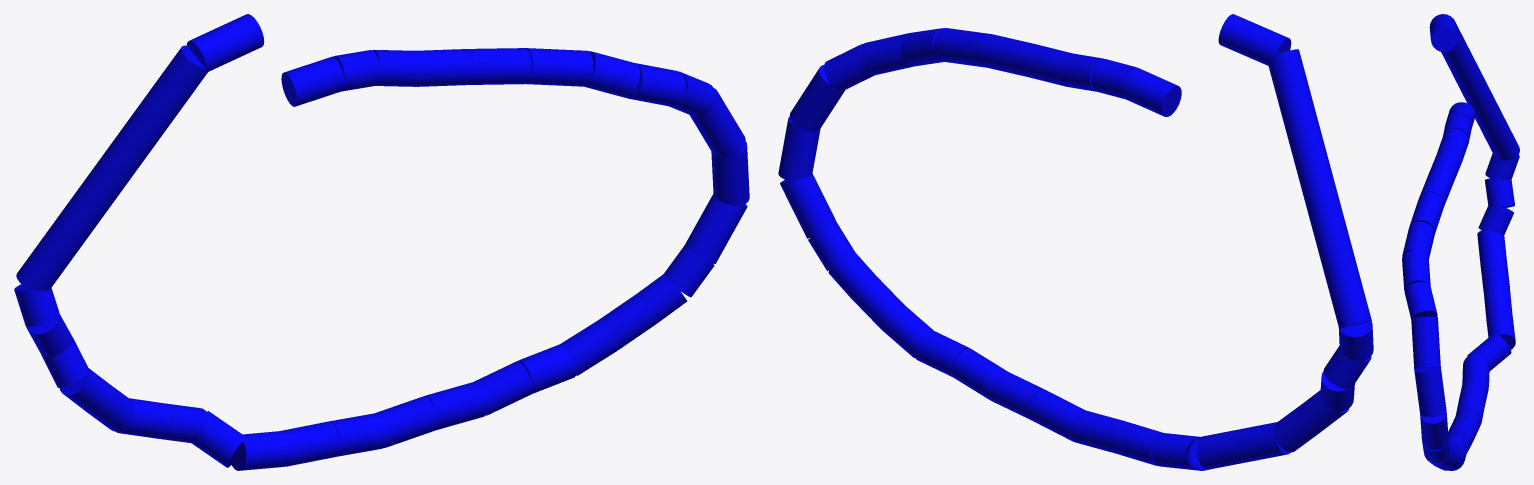
3 renders of one model, left to right at view 1: azimuth 30°, elevation 25°; view 2: azimuth 150°, elevation 25°; view 3: azimuth 270°, elevation 25°, orthographic. The views are drawn at different scales.
Visible parts, largest first — view 1: Cylinder(Clone) (×33); view 2: Cylinder(Clone) (×32); view 3: Cylinder(Clone) (×33).
Part boxes in pixels (bbox=[...]): Cylinder(Clone) (×33): bbox=[14, 14, 749, 470]; Cylinder(Clone) (×32): bbox=[778, 14, 1373, 470]; Cylinder(Clone) (×33): bbox=[1402, 14, 1519, 470].
Size of the model in its own units: 0.2166 by 0.1457 by 0.044.
